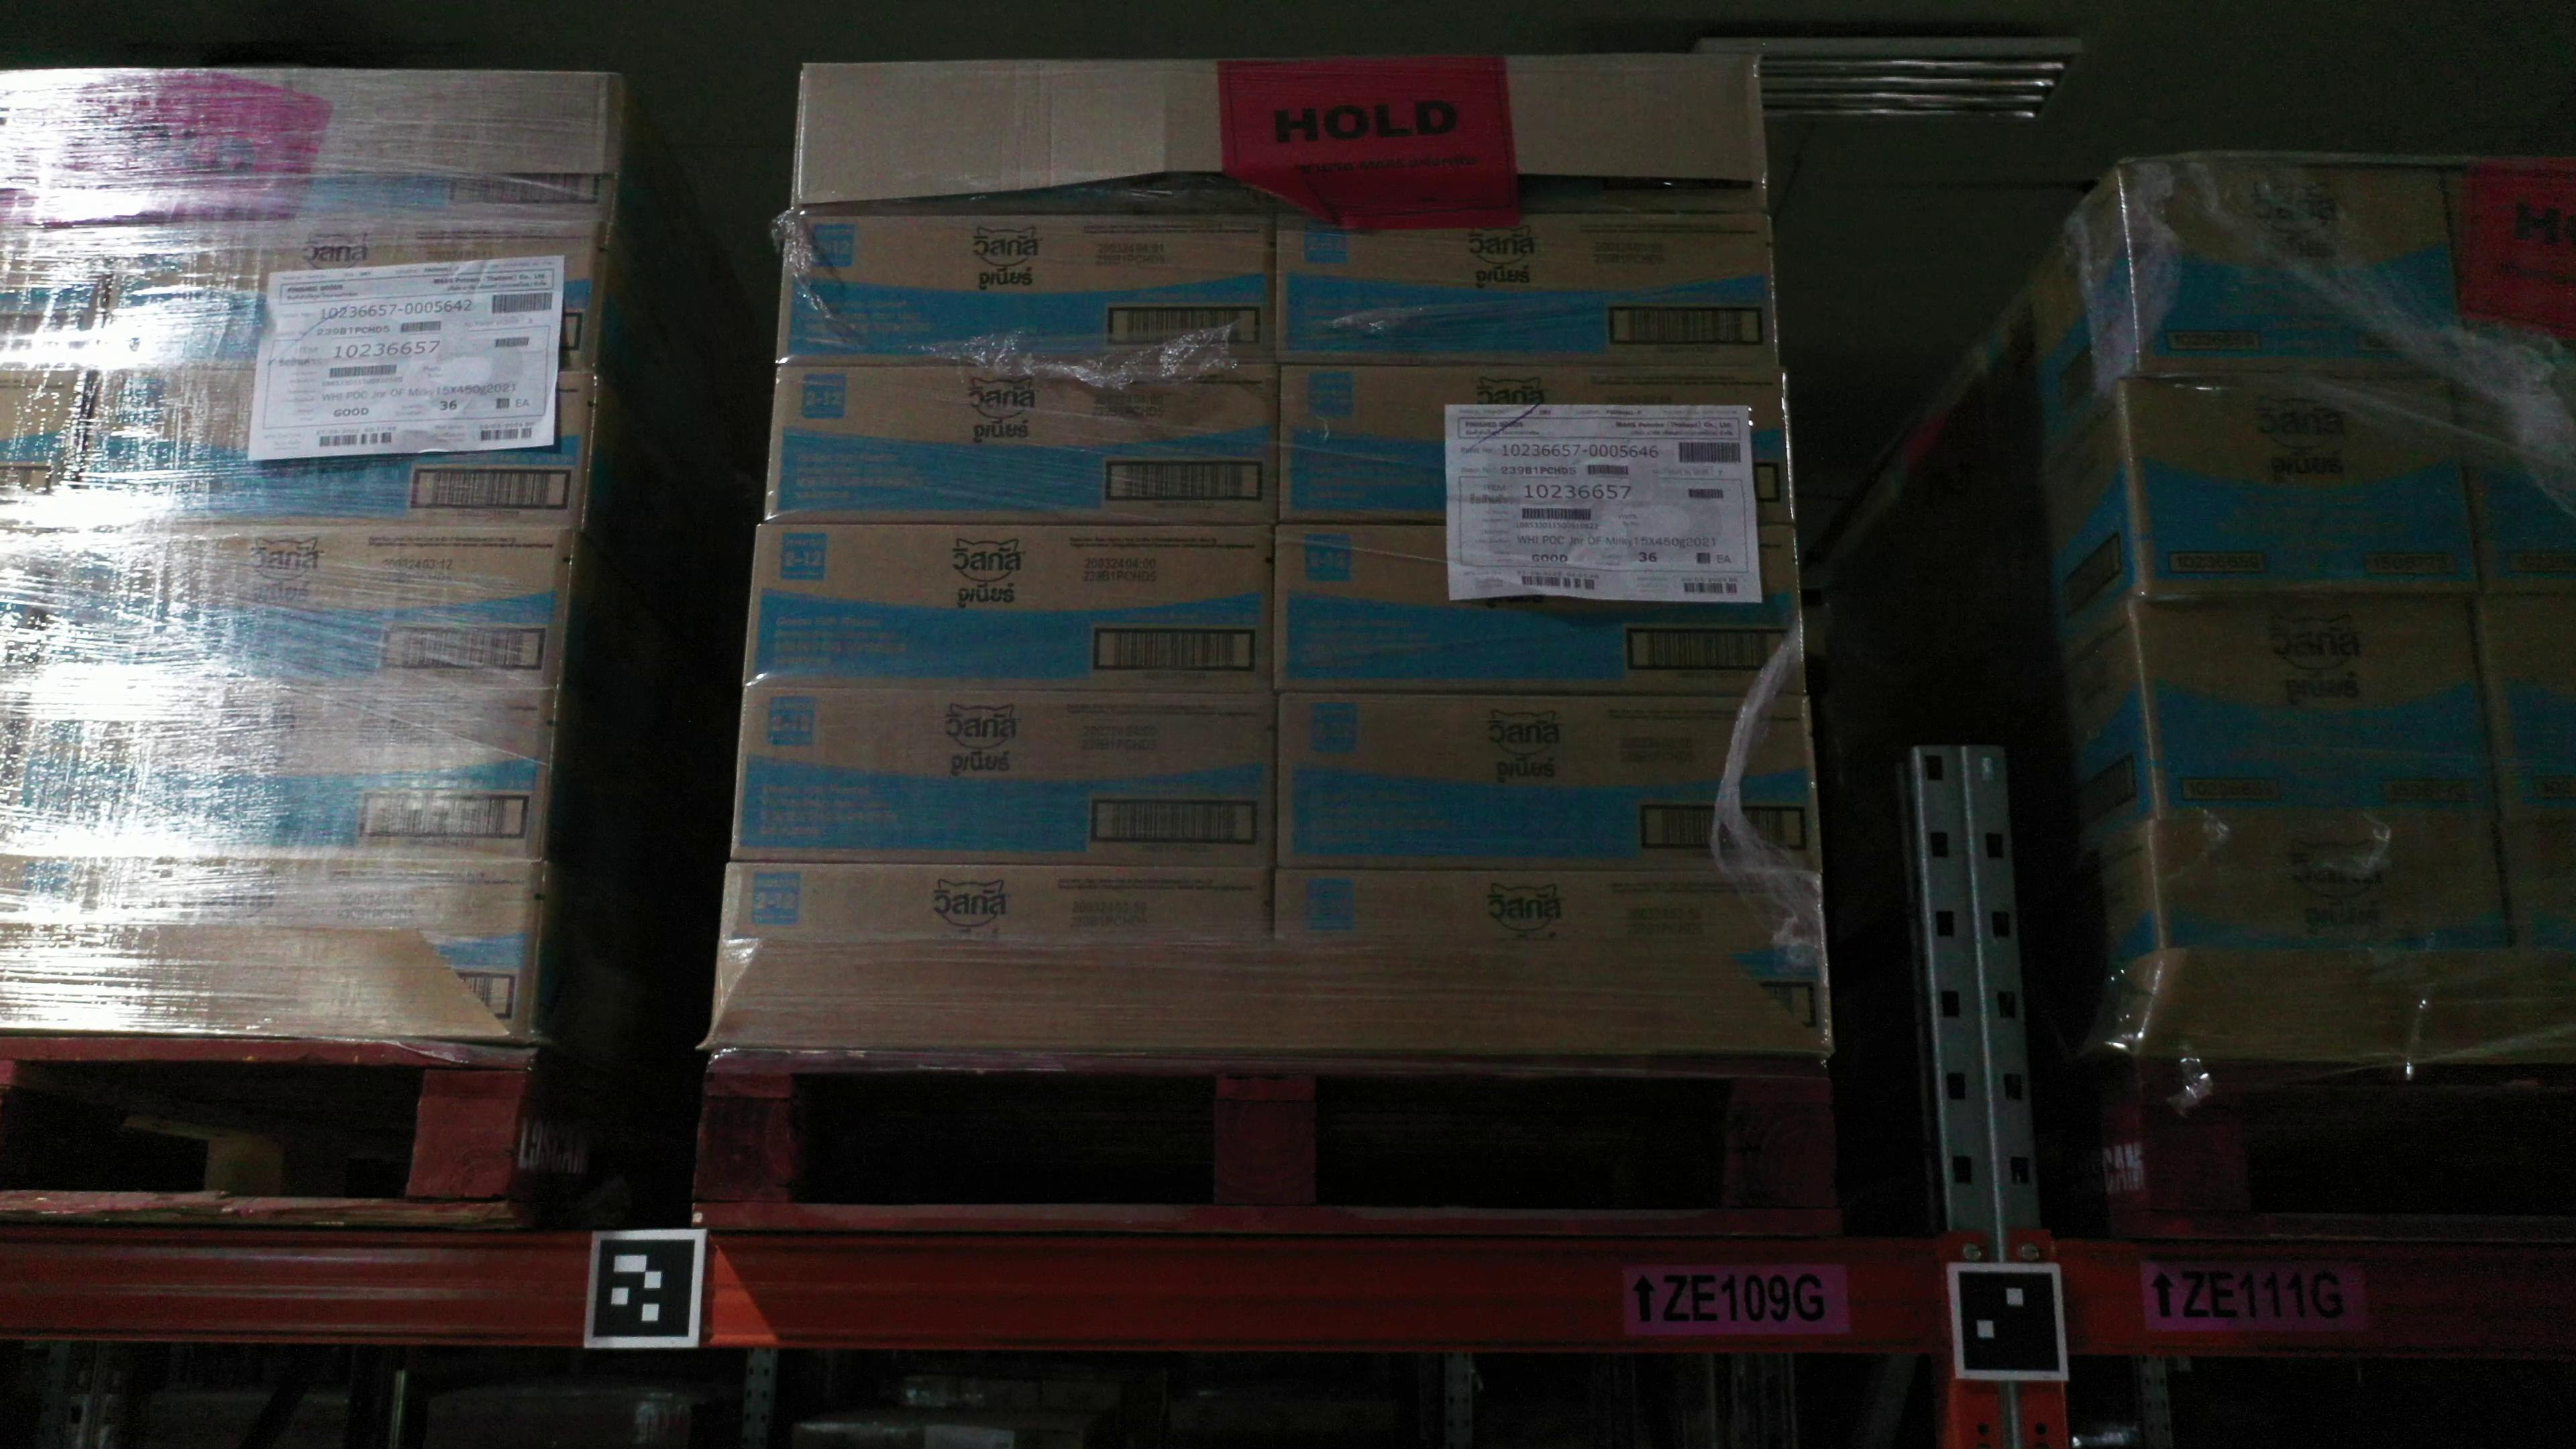-: (1265, 865, 1831, 1047), (0, 847, 541, 1035), (727, 685, 1277, 865), (1274, 692, 1821, 872), (1272, 518, 1806, 701), (0, 688, 557, 862), (743, 520, 1274, 692), (2121, 594, 2502, 828), (28, 533, 573, 692), (65, 372, 596, 534), (2118, 373, 2484, 602), (764, 364, 1279, 525), (1274, 364, 1794, 524), (1270, 209, 1780, 370), (2116, 156, 2472, 382), (96, 218, 607, 373), (777, 211, 1274, 364), (720, 858, 1270, 947), (2151, 828, 2514, 957), (2442, 159, 2576, 382), (2457, 380, 2576, 594), (2475, 591, 2576, 828), (0, 223, 124, 372), (0, 364, 99, 531), (2496, 823, 2576, 959), (0, 525, 62, 692)
